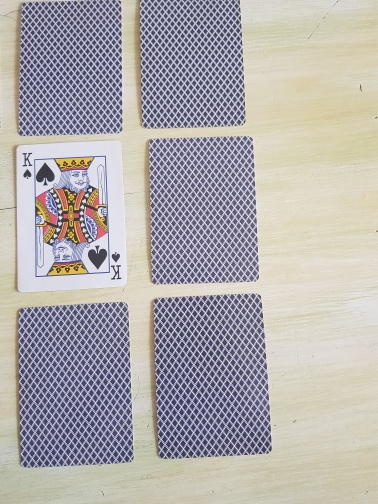king: (15, 140, 127, 293)
